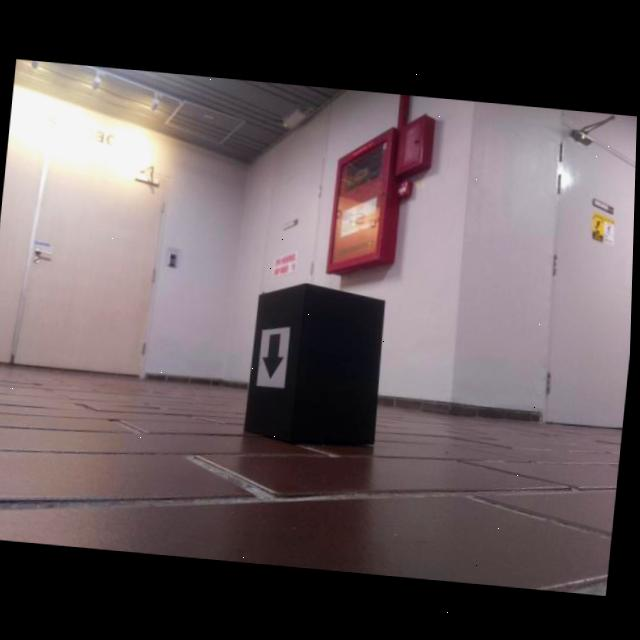DOWN: (263, 331, 287, 378)
